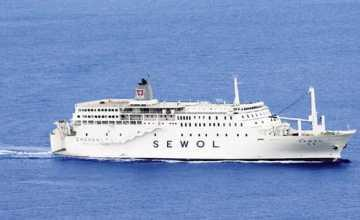youlun: (47, 83, 352, 160)
